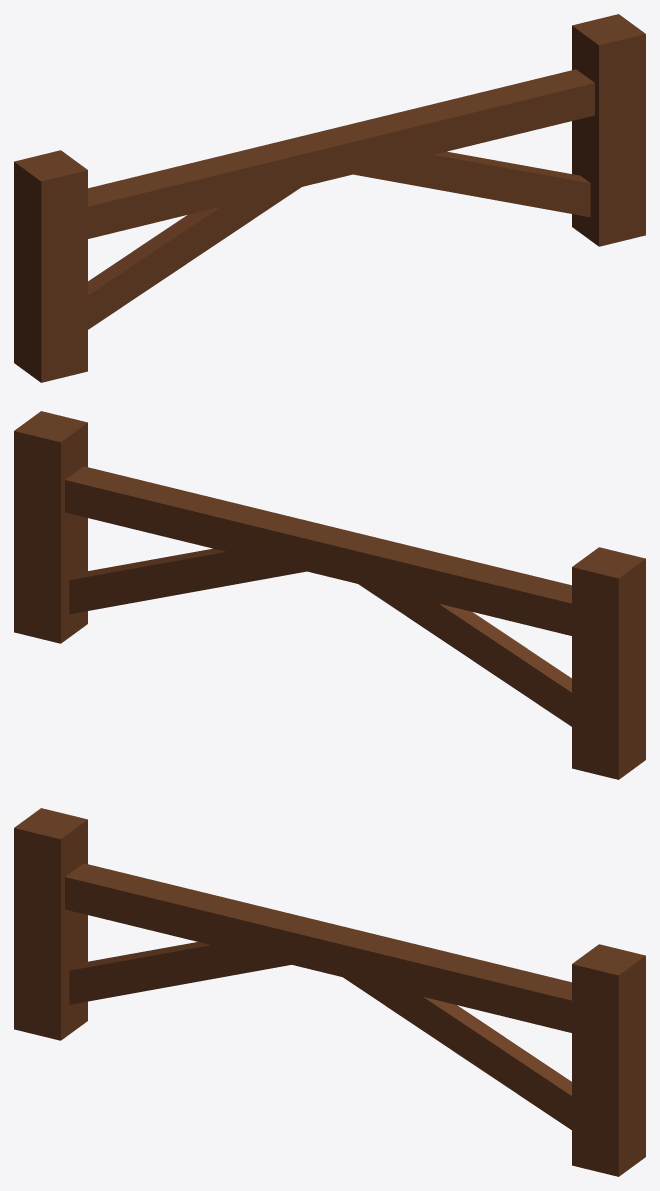
The model's file is GardenFence.fbx.
3 views of the same model, one above another, from view 1: azimuth 30°, elevation 25°; view 2: azimuth 150°, elevation 25°; view 3: azimuth 330°, elevation 25° (orthographic).
Parts seen in each view (by area): view 1: GardenFence; view 2: GardenFence; view 3: GardenFence.
Part boxes in pixels (<box>): GardenFence: <box>14,14,645,382</box>; GardenFence: <box>14,411,645,779</box>; GardenFence: <box>14,808,645,1176</box>.
Size of the model in its own units: 434 by 138 by 33.8.
